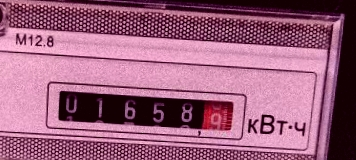0: (63, 91, 77, 114)
1: (93, 96, 104, 118)
5: (150, 100, 165, 123)
6: (121, 97, 136, 120)
8: (178, 100, 193, 123)
9: (206, 110, 221, 132)
screen: (38, 75, 253, 145)
